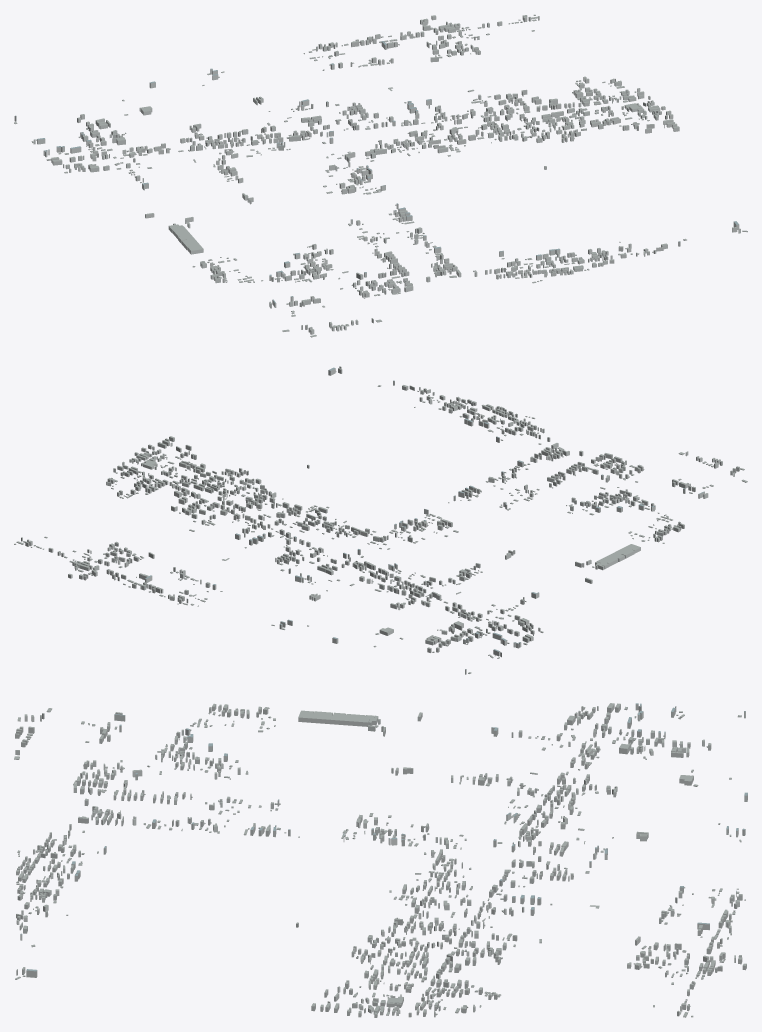
Rendered from far.glb.
3 views of the same model, one above another, from view 1: azimuth 30°, elevation 25°; view 2: azimuth 150°, elevation 25°; view 3: azimuth 270°, elevation 25° (orthographic). The views are drawn at different scales.
Size of the model in its own units: 2091 by 21.1 by 2091.
